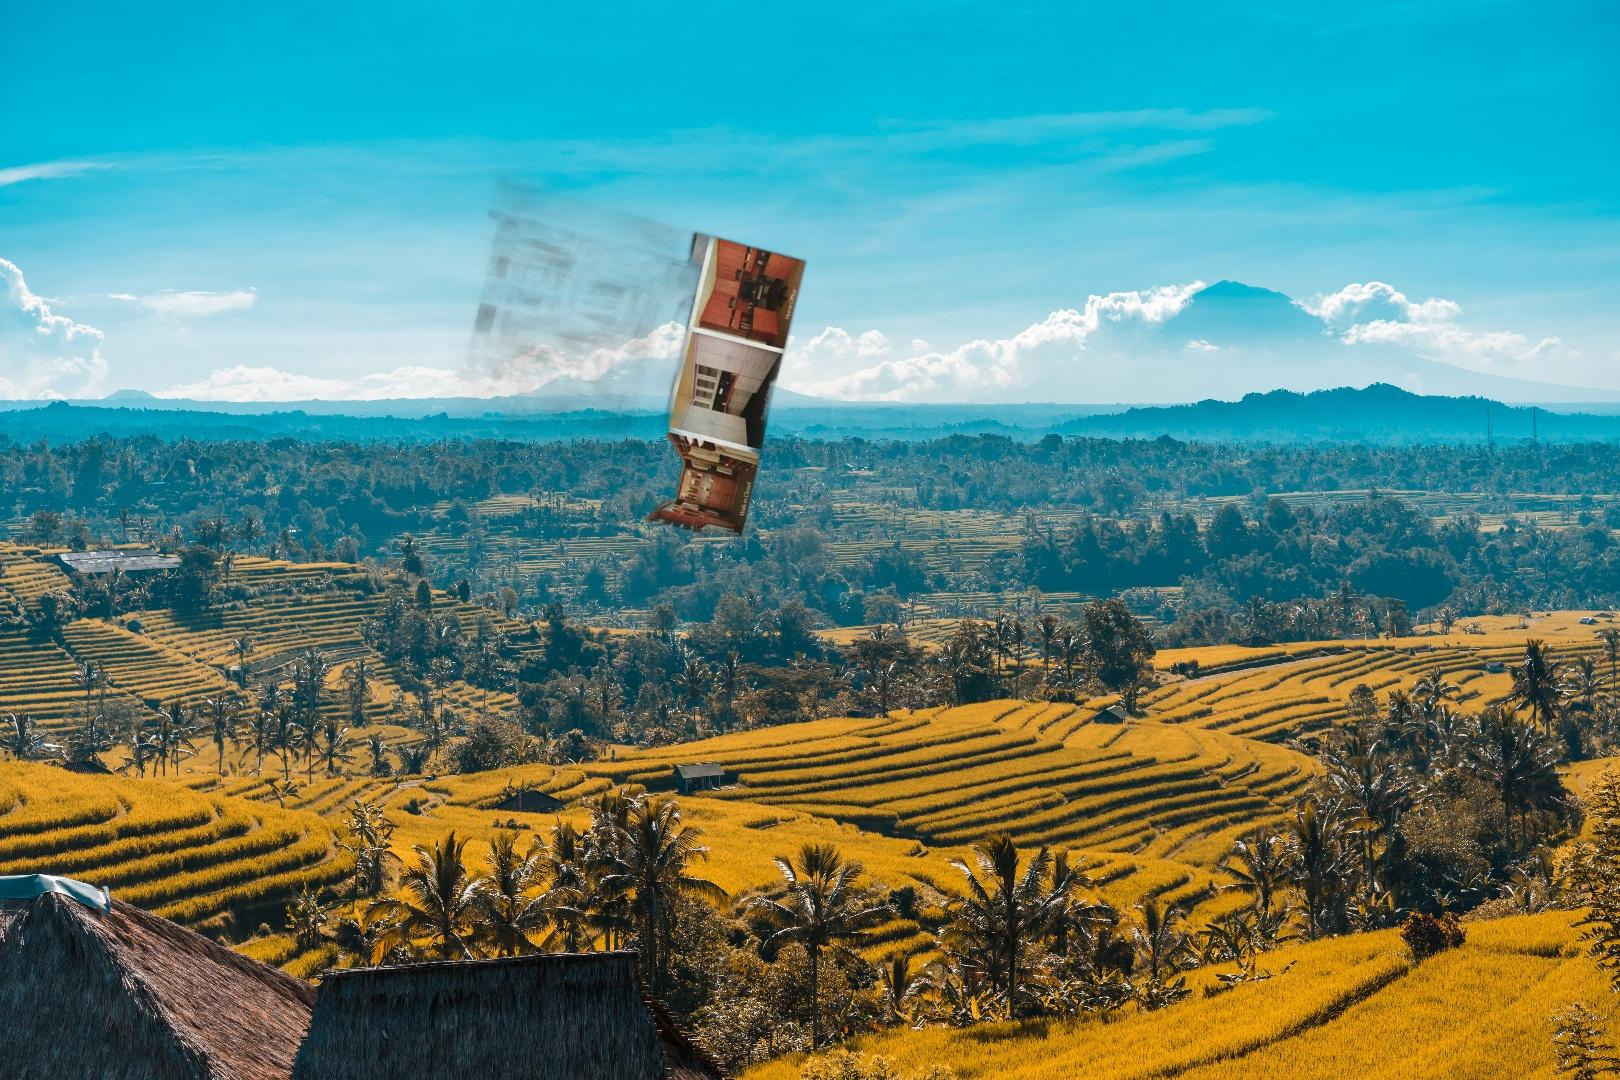paper: (440, 168, 933, 552)
